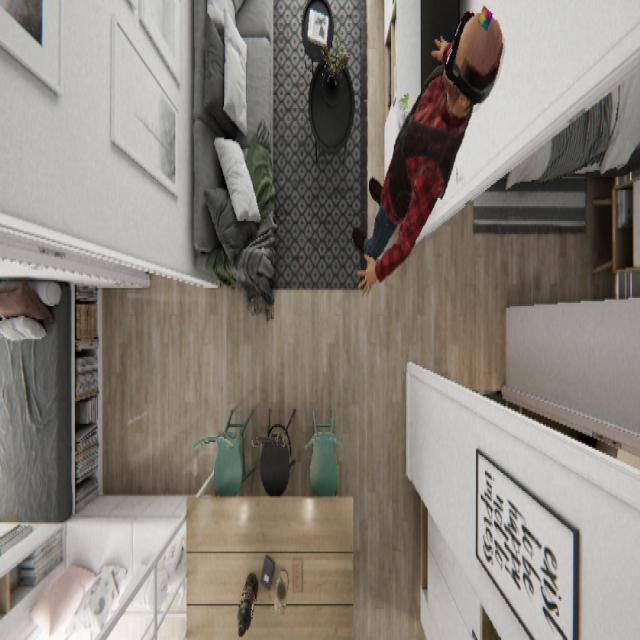Colored-Marker: (476, 3, 494, 33)
Human: (350, 5, 505, 296)
